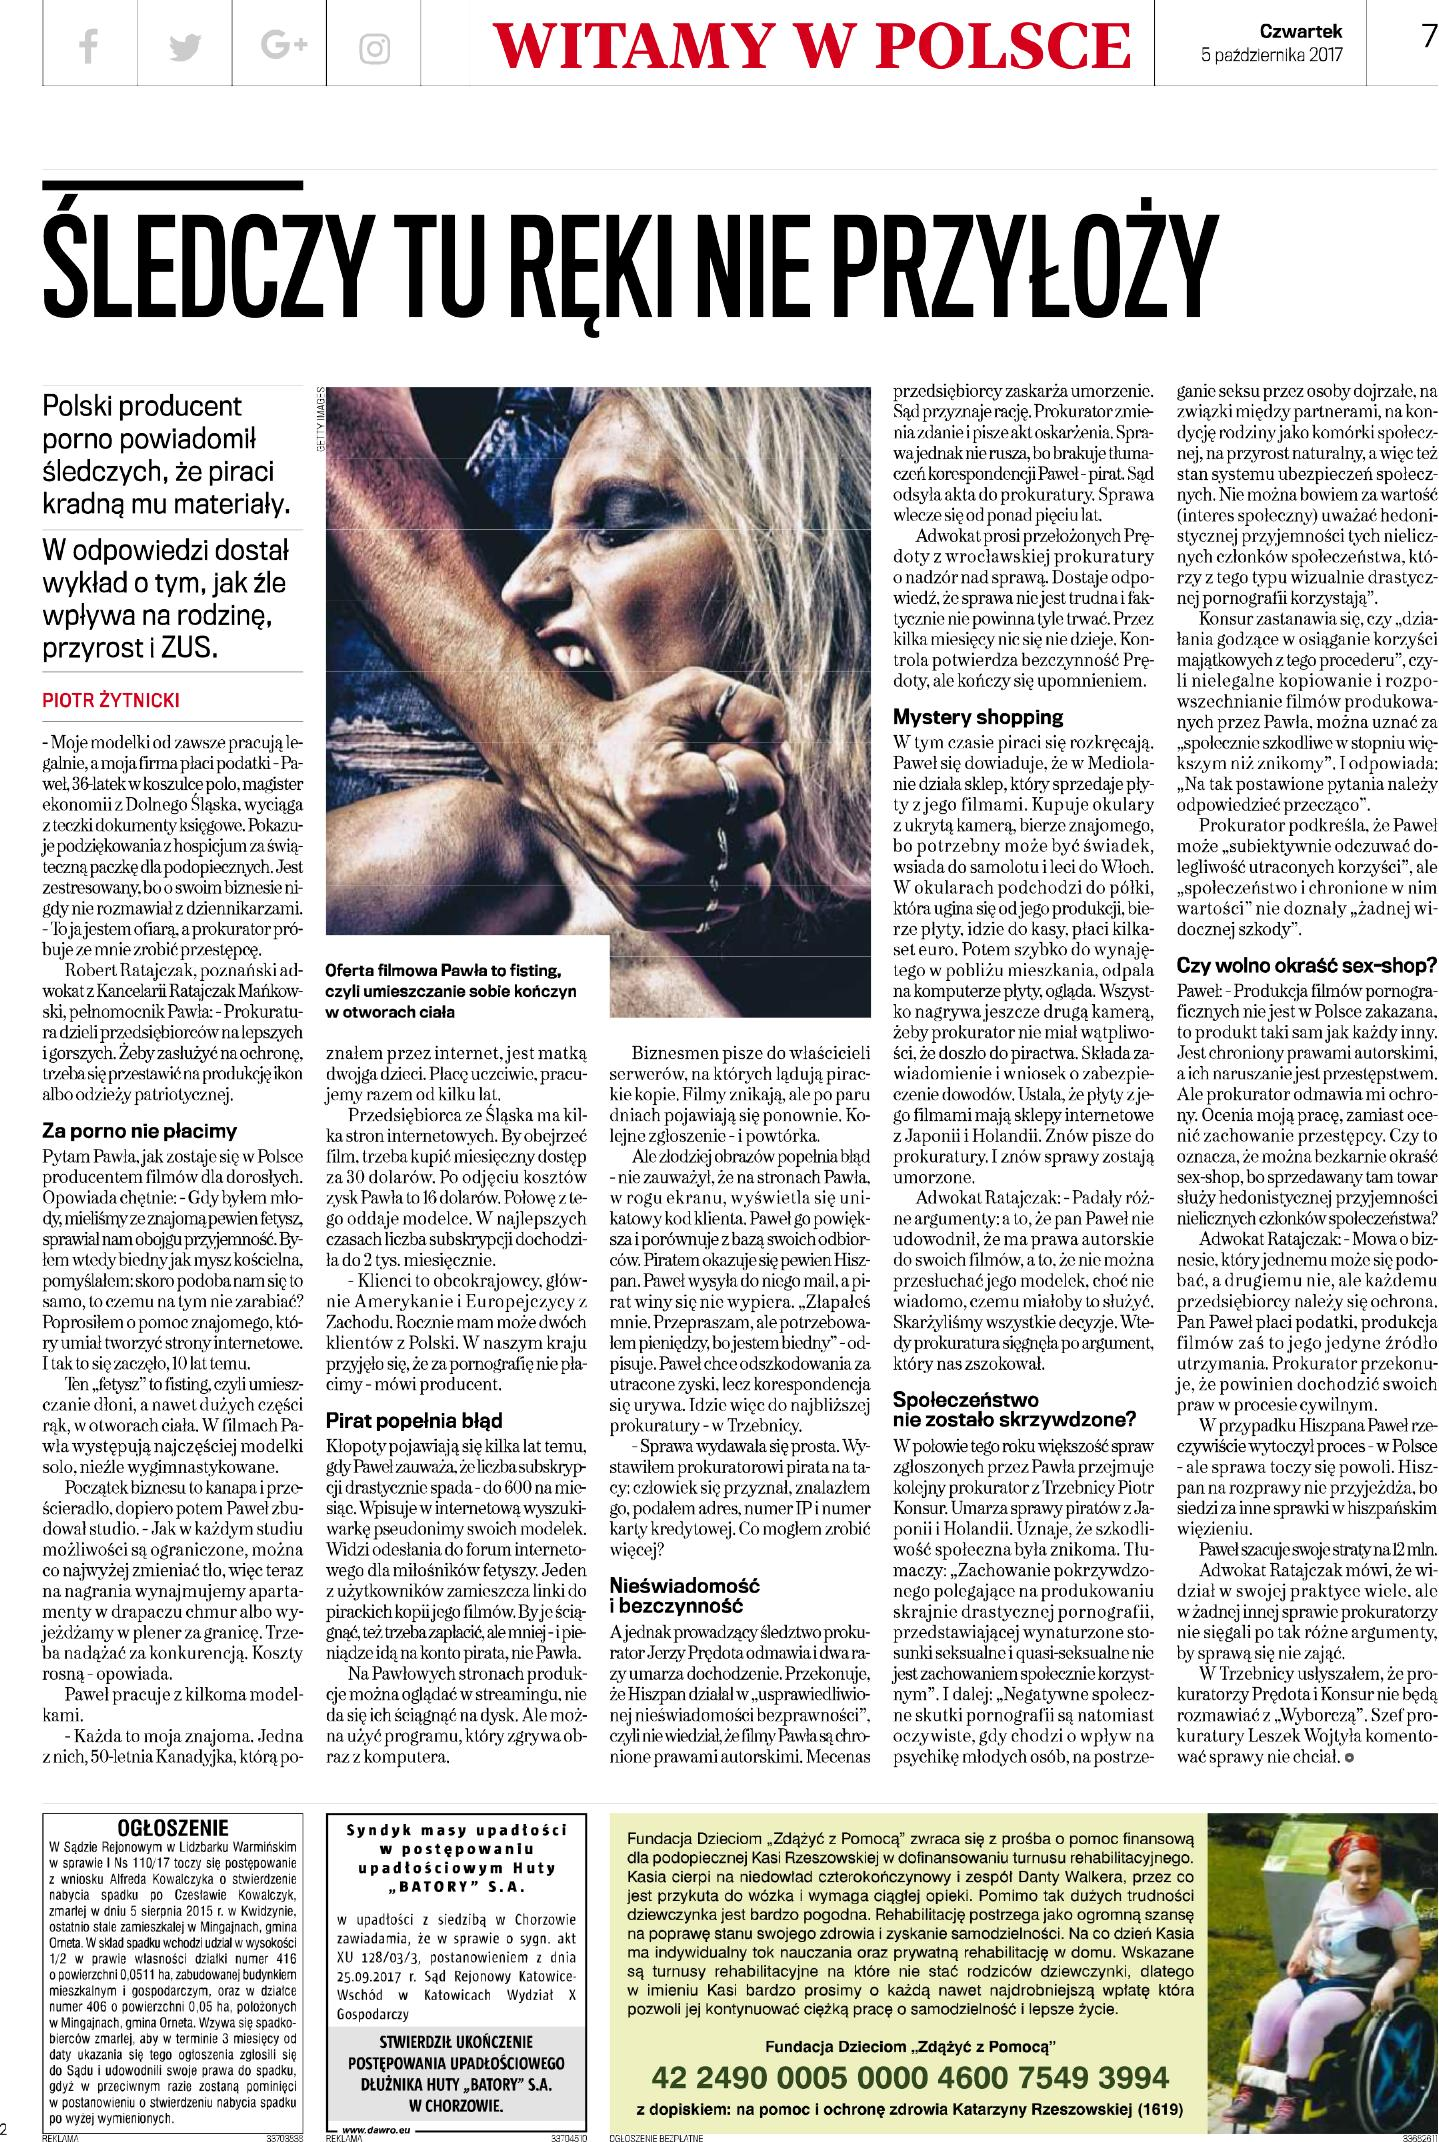article: (31, 172, 1439, 1795)
